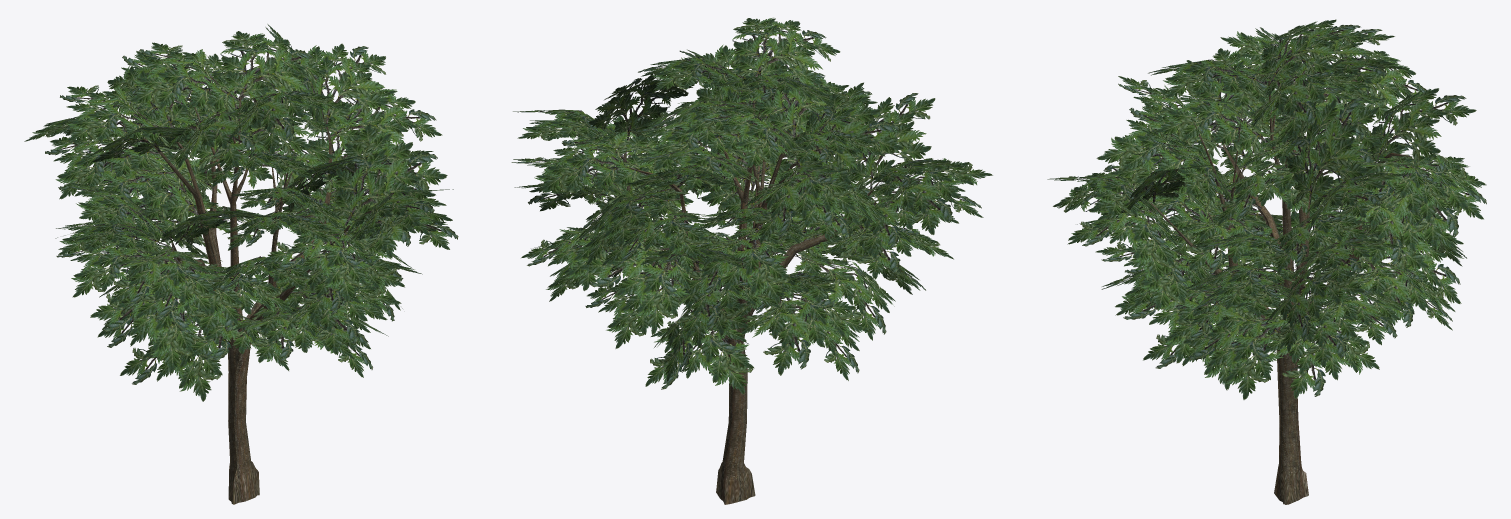
The picture shows the model from 3 angles, left to right: view 1: azimuth 30°, elevation 25°; view 2: azimuth 150°, elevation 25°; view 3: azimuth 270°, elevation 25°; orthographic projection.
Parts seen in each view (by area): view 1: Tr-户外植物13A_01; view 2: Tr-户外植物13A_01; view 3: Tr-户外植物13A_01.
Boxes of the visible parts, x1,y1,x2,y2 form: Tr-户外植物13A_01: (24,24,458,504); Tr-户外植物13A_01: (511,17,992,504); Tr-户外植物13A_01: (1047,19,1486,504).
Bounding box in the file's own units: 7.86 × 7.81 × 7.45.
2 materials, 2 textured.
